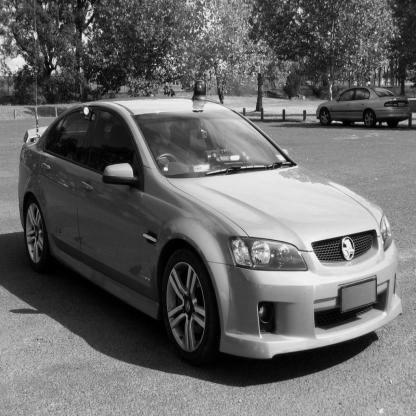car: (7, 81, 413, 388)
